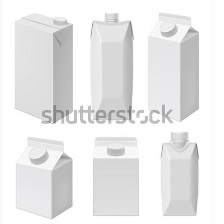carton: (9, 10, 82, 126), (142, 7, 207, 124), (87, 8, 144, 127), (12, 133, 81, 218), (89, 132, 146, 219), (157, 128, 207, 220)
